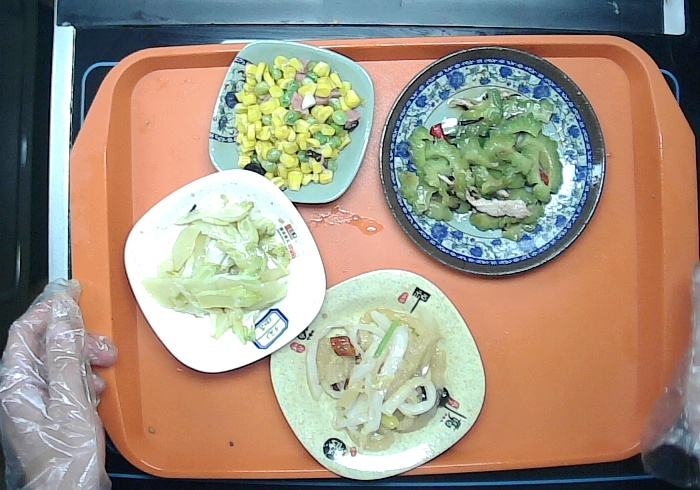NLDX-Bai_Se_Xiao_Fang_Die: (120, 165, 332, 378)
NLDX-Fu_Zi_Fang_Die: (266, 263, 489, 480)
NLDX-Qing_Hua_Xiao_Fang_Die: (208, 35, 376, 206)
NLDX-Qing_Hua_Yuan_Die: (374, 43, 608, 281)
